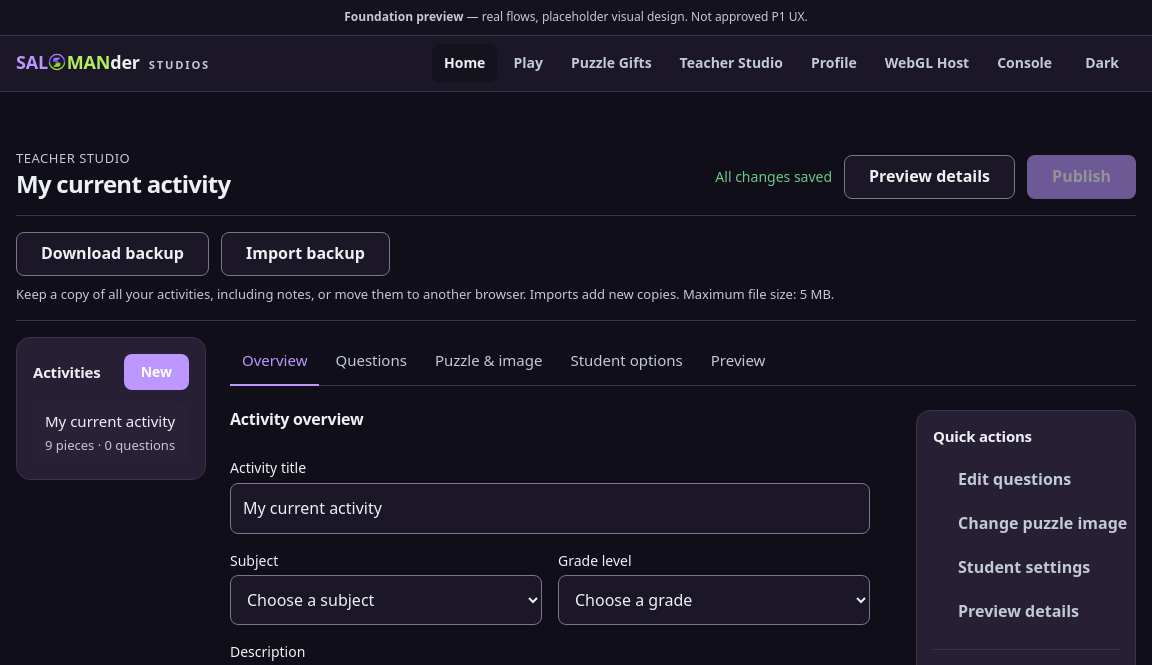
Test case: downloads all activities with the latest unsaved edit, even when browser storage refuses writes
Replace the text in the field labelled "Activity title" with "My latest edit" at point(550, 508), box [230,483,870,534]
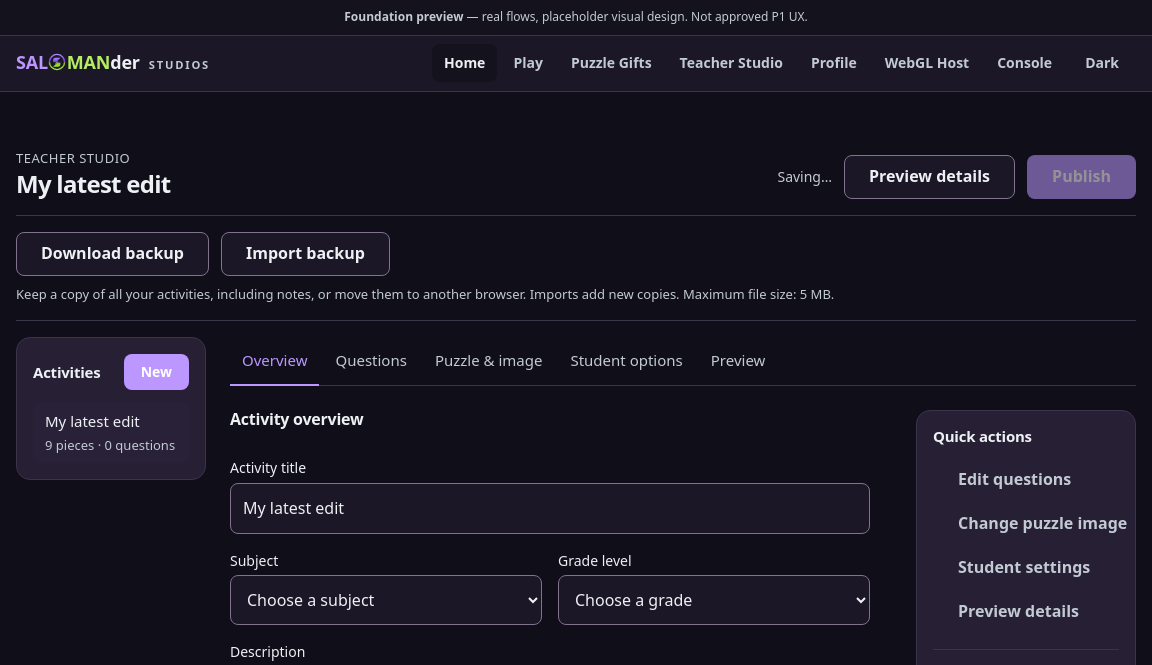
Click the button "Download backup" at point(112, 254), box [16,232,209,276]
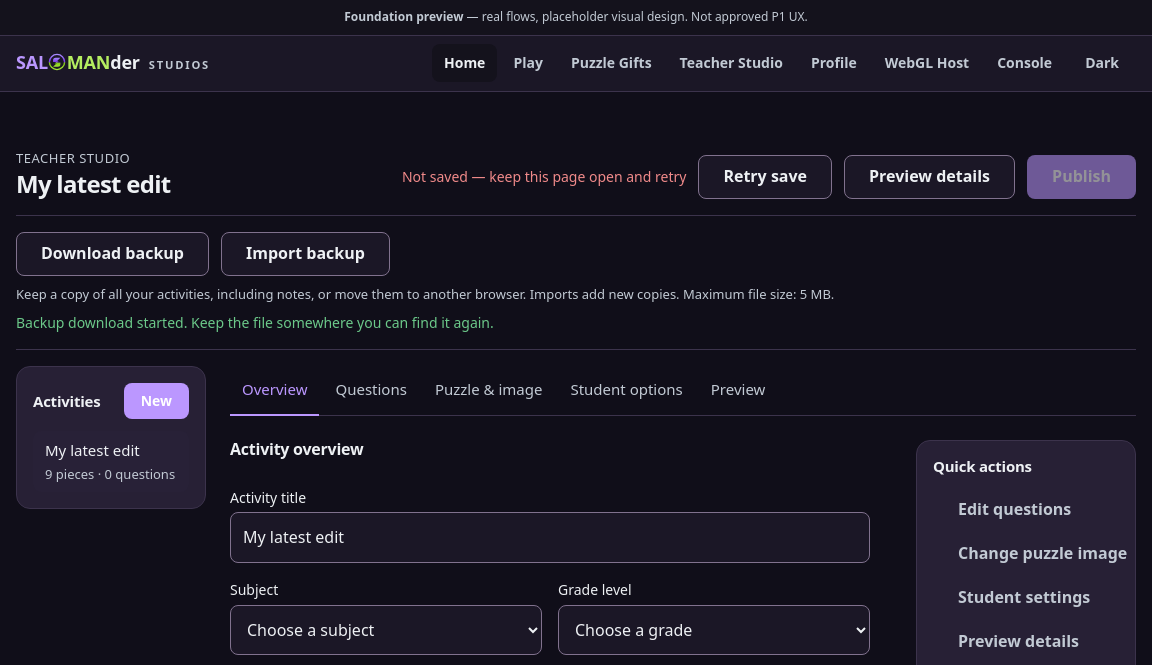
expect the heading "My latest edit" is shown: met, box [16,170,171,198]
expect the text "Backup download started. Keep the file somewhere you can find it again." is shown: met, box [16,313,494,332]
